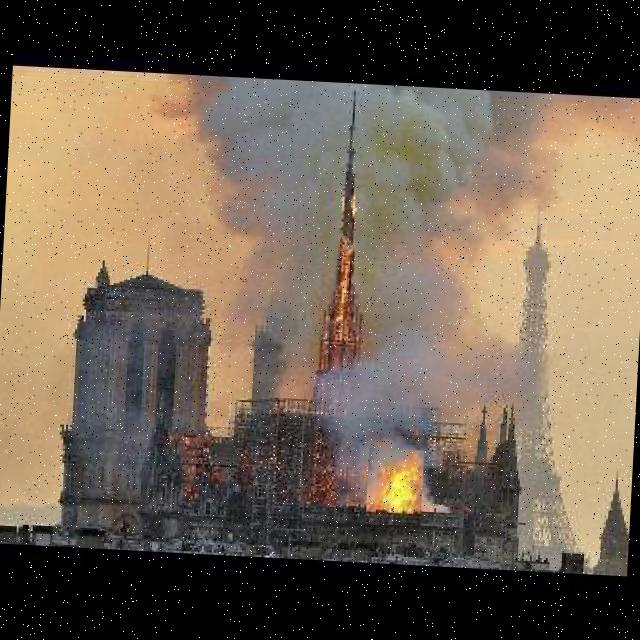fire: (307, 124, 377, 418), (366, 448, 424, 526)
